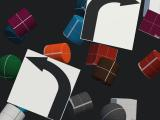Left: (6, 49, 80, 120)
Right: (80, 0, 142, 50)
